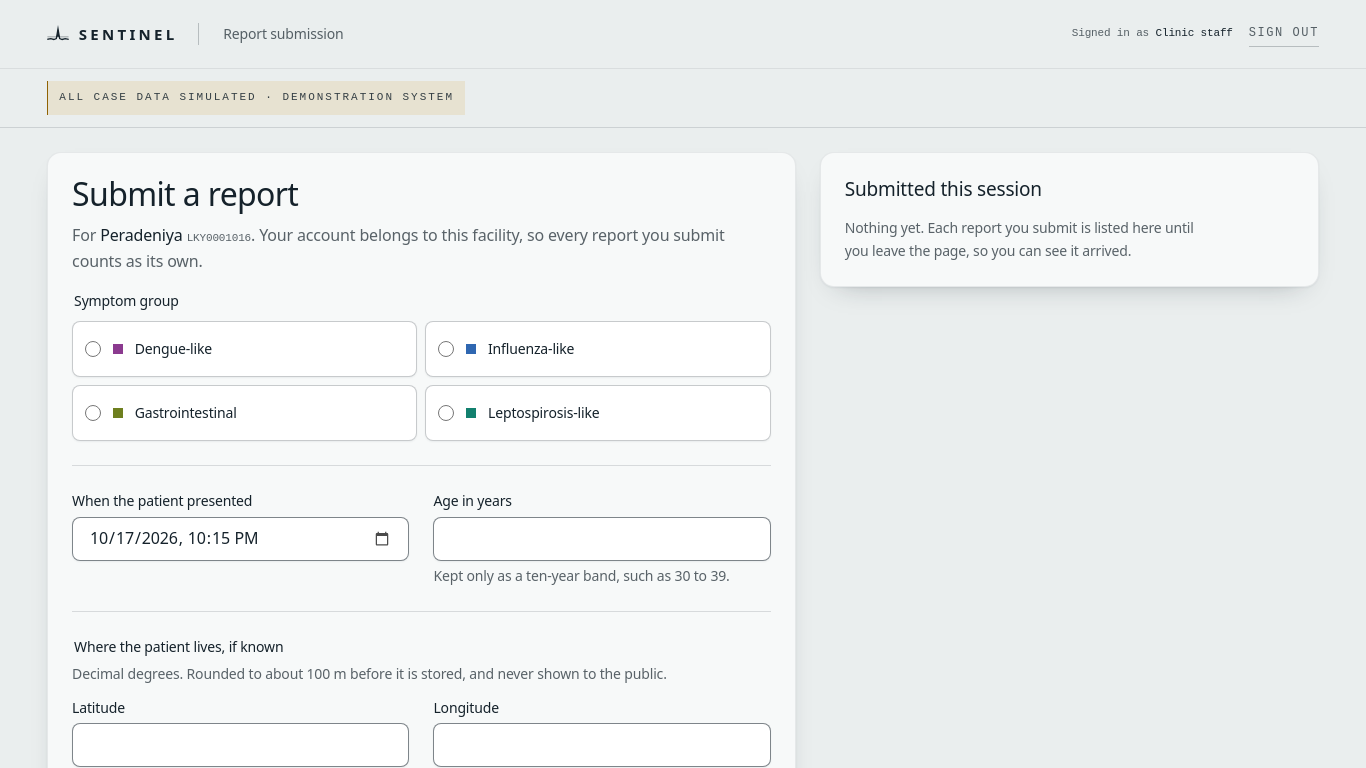
Test: SubmitPage › shows a refused field beside the field
Click the radio button labelled "Influenza-like" at [446, 349], box [438, 341, 454, 357]
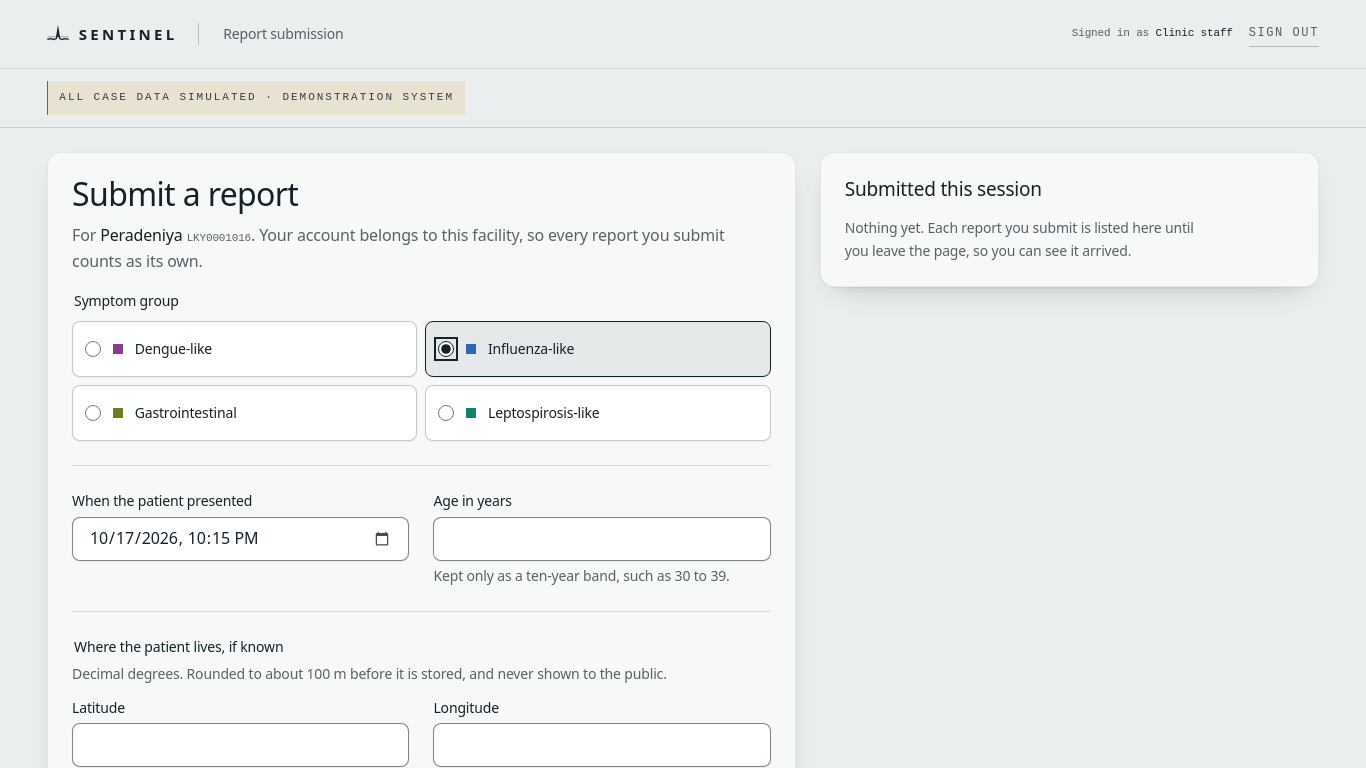
Type "40" into the number field labelled "Age in years" at [602, 539], box [433, 517, 771, 561]
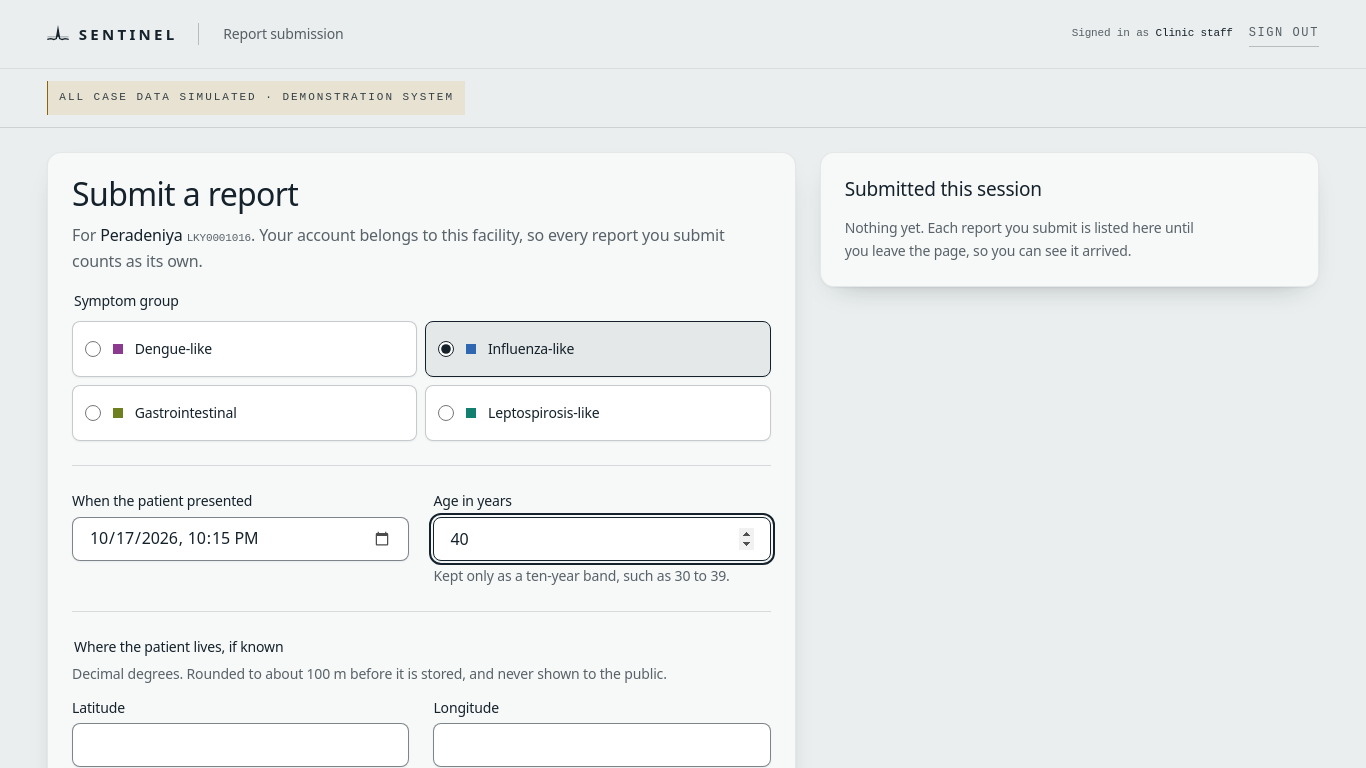
Type "12.5" into the number field labelled "Latitude" at [241, 745], box [72, 723, 409, 767]
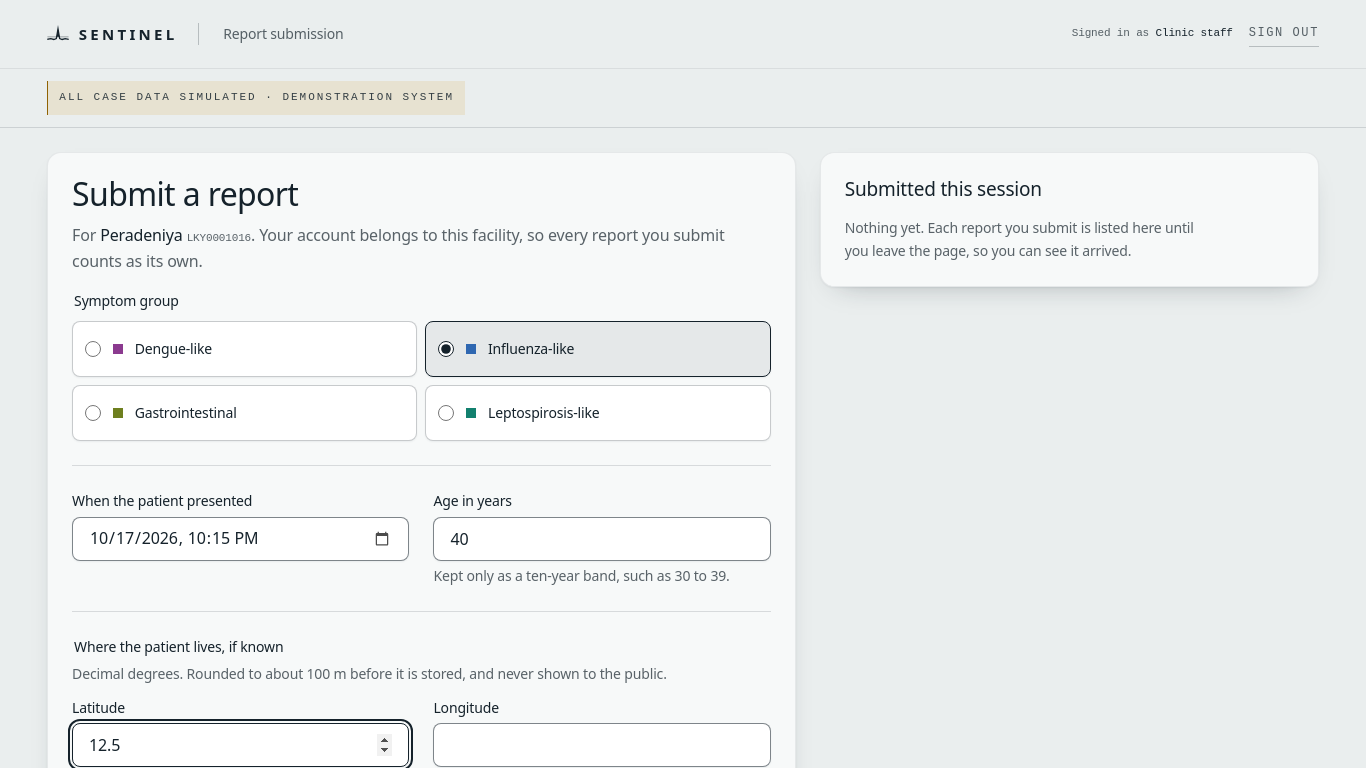
Type "80.6" into the number field labelled "Longitude" at [602, 745], box [433, 723, 771, 767]
(page scrolled)
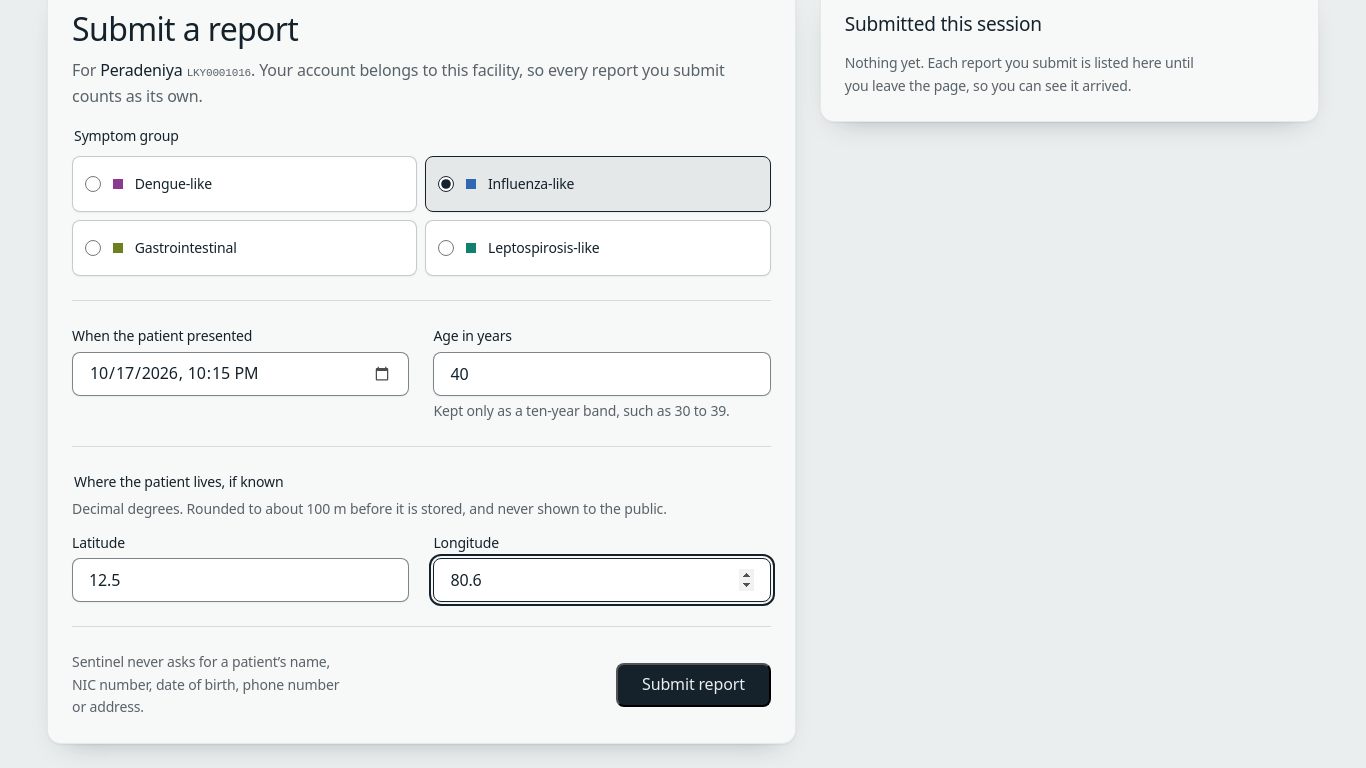
Click the button "Submit report" at [693, 685], box [616, 663, 771, 707]
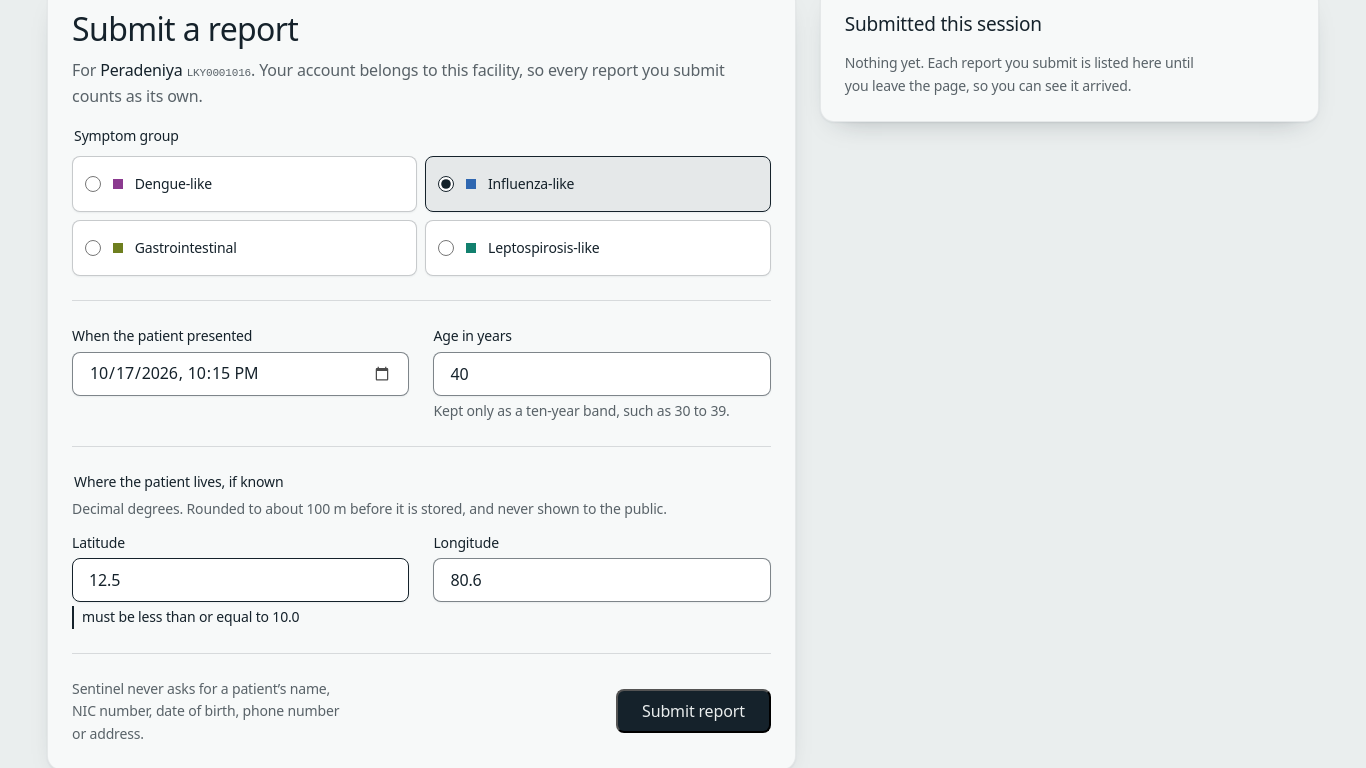
Check: the text "must be less than or equal to 10.0" is shown, box [72, 606, 409, 629]
